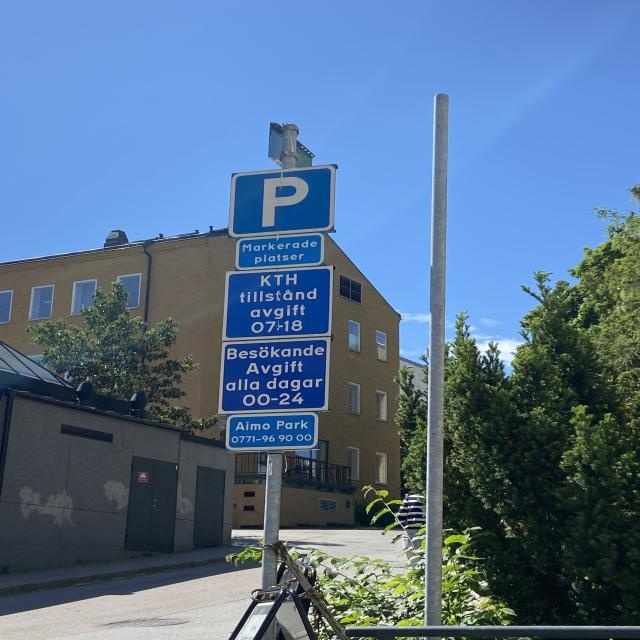P-skylt: (232, 167, 332, 234)
